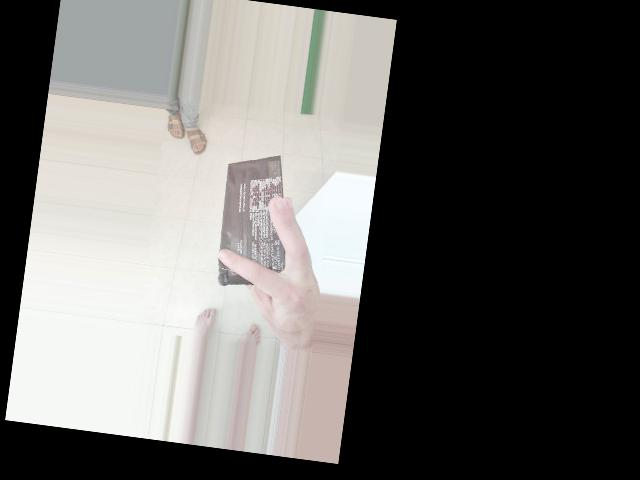chocolate: (147, 160, 289, 250)
